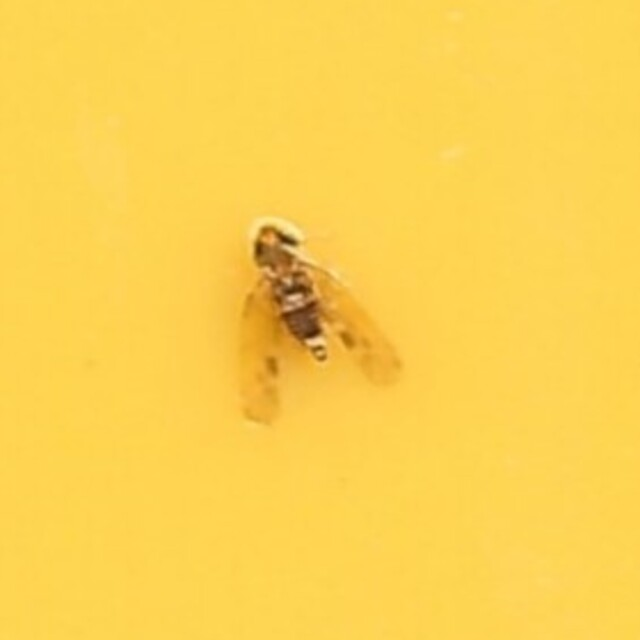Hemiptera: (229, 217, 411, 423)
